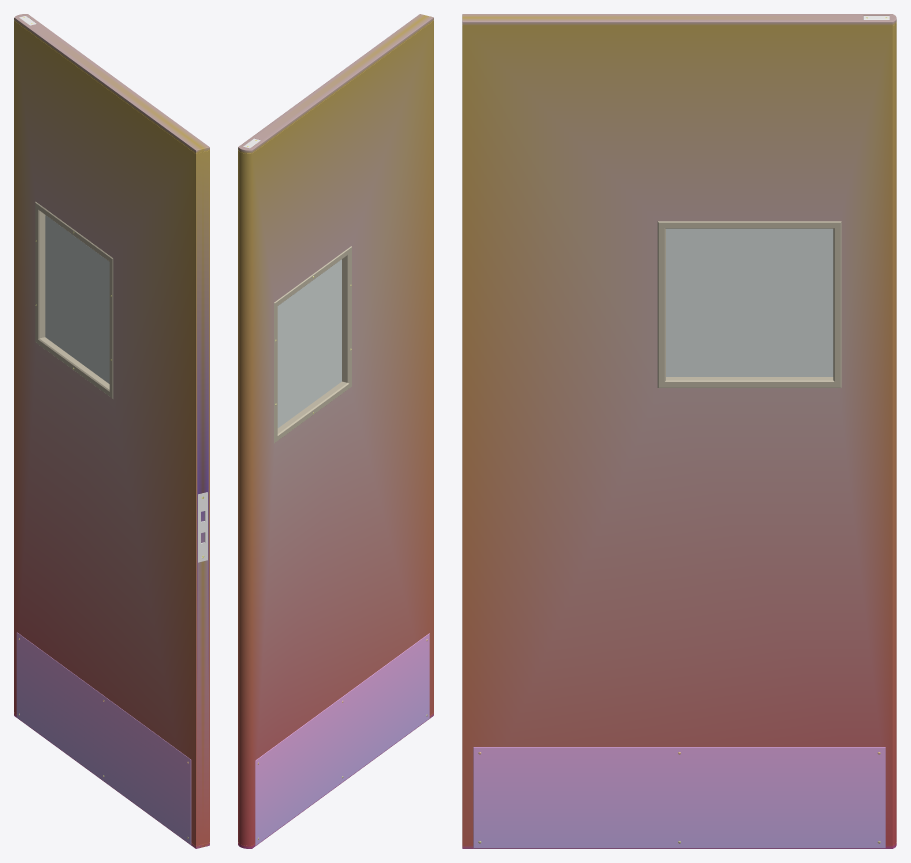
File: Kit_DoorLeaf_SteelRun_DA.fbx
The picture shows the model from 3 angles, left to right: view 1: azimuth 30°, elevation 25°; view 2: azimuth 150°, elevation 25°; view 3: azimuth 270°, elevation 25°; orthographic projection. The views are drawn at different scales.
Parts seen in each view (by area): view 1: Kit_DoorLeaf_SteelRun_DA_LOD0; view 2: Kit_DoorLeaf_SteelRun_DA_LOD0; view 3: Kit_DoorLeaf_SteelRun_DA_LOD0.
Part boxes in pixels (x1,y1,x2,y2): Kit_DoorLeaf_SteelRun_DA_LOD0: [14, 14, 209, 848]; Kit_DoorLeaf_SteelRun_DA_LOD0: [238, 14, 433, 848]; Kit_DoorLeaf_SteelRun_DA_LOD0: [462, 14, 896, 848].
Size of what is drawn, in the model's own units: 0.0498 by 2.08 by 0.9902.
